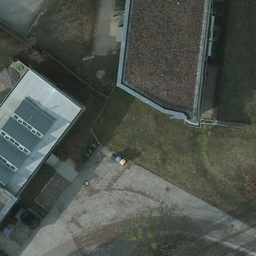car: (13, 203, 40, 230)
